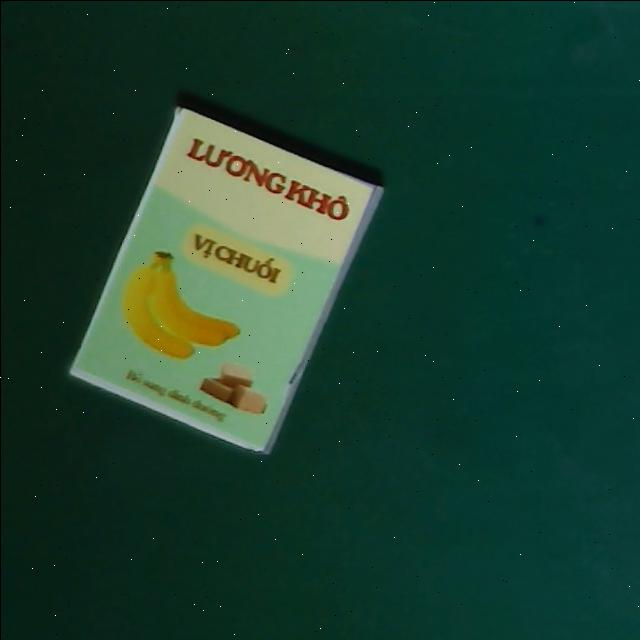chuoi: (68, 103, 385, 460)
